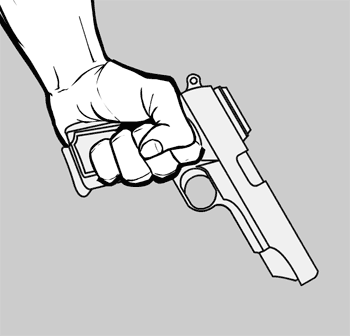pistol: (9, 67, 341, 317)
